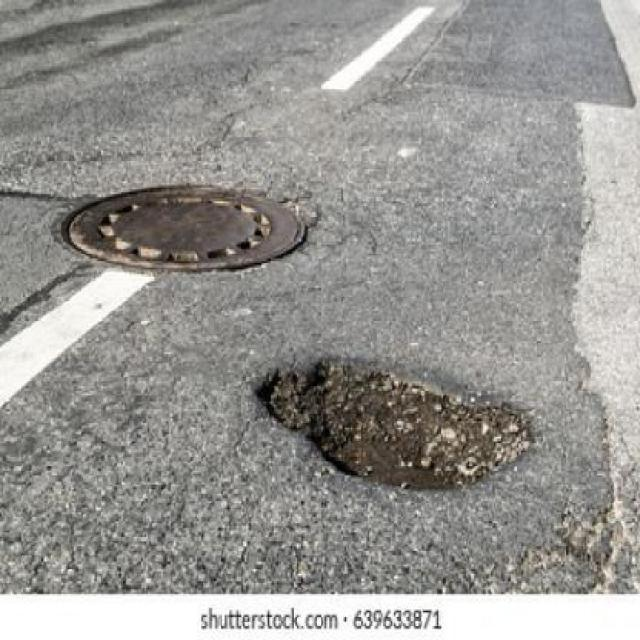Pothole: (249, 361, 534, 496), (49, 180, 309, 274)
